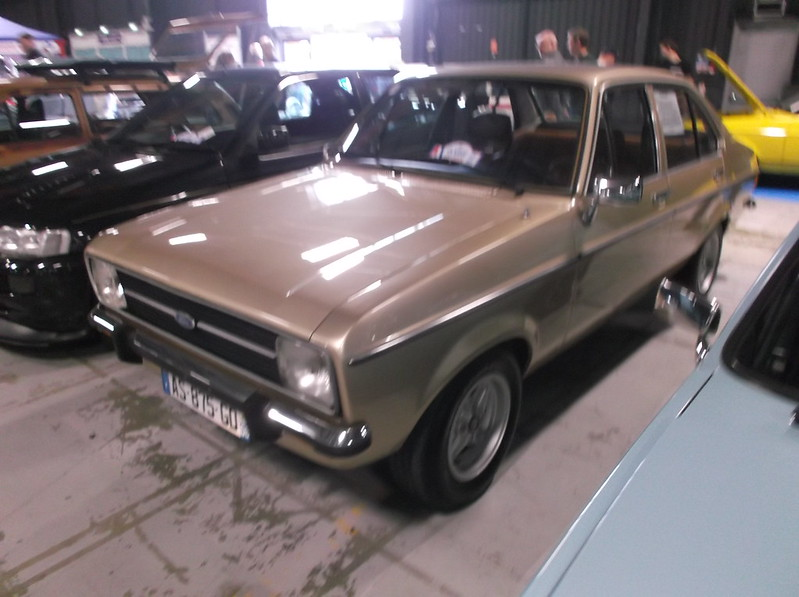number_plate: (156, 364, 263, 446)
